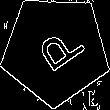P_SW: (26, 21, 85, 79)
